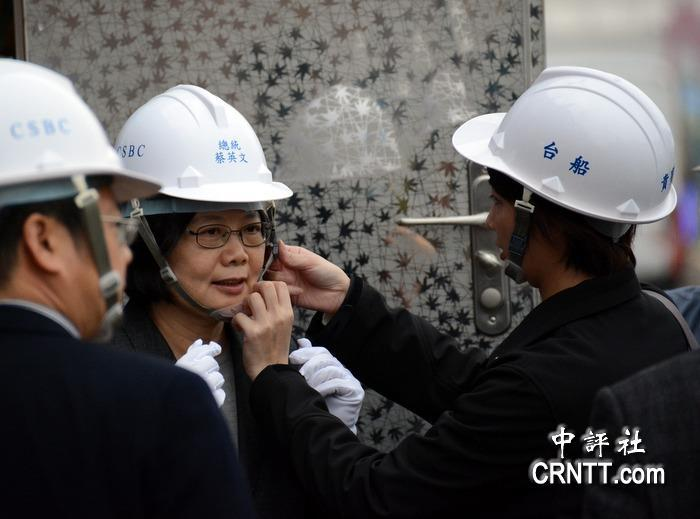helmet: (452, 66, 681, 223), (1, 58, 161, 205), (116, 85, 298, 207)
